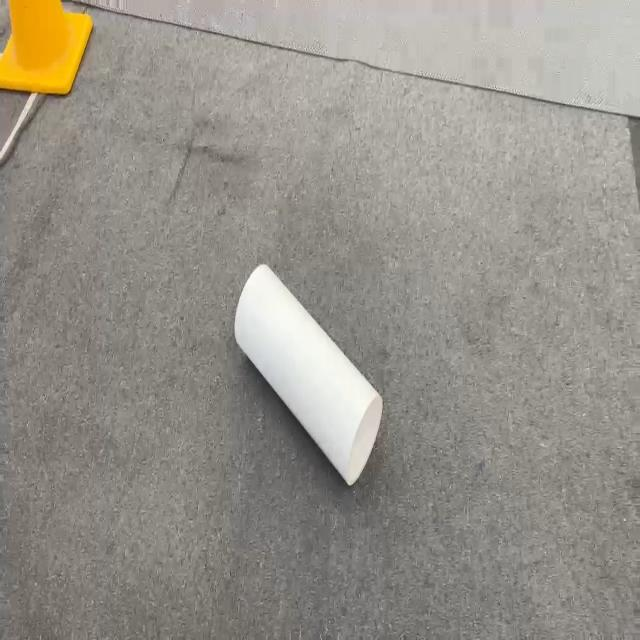coral: (233, 261, 383, 487)
